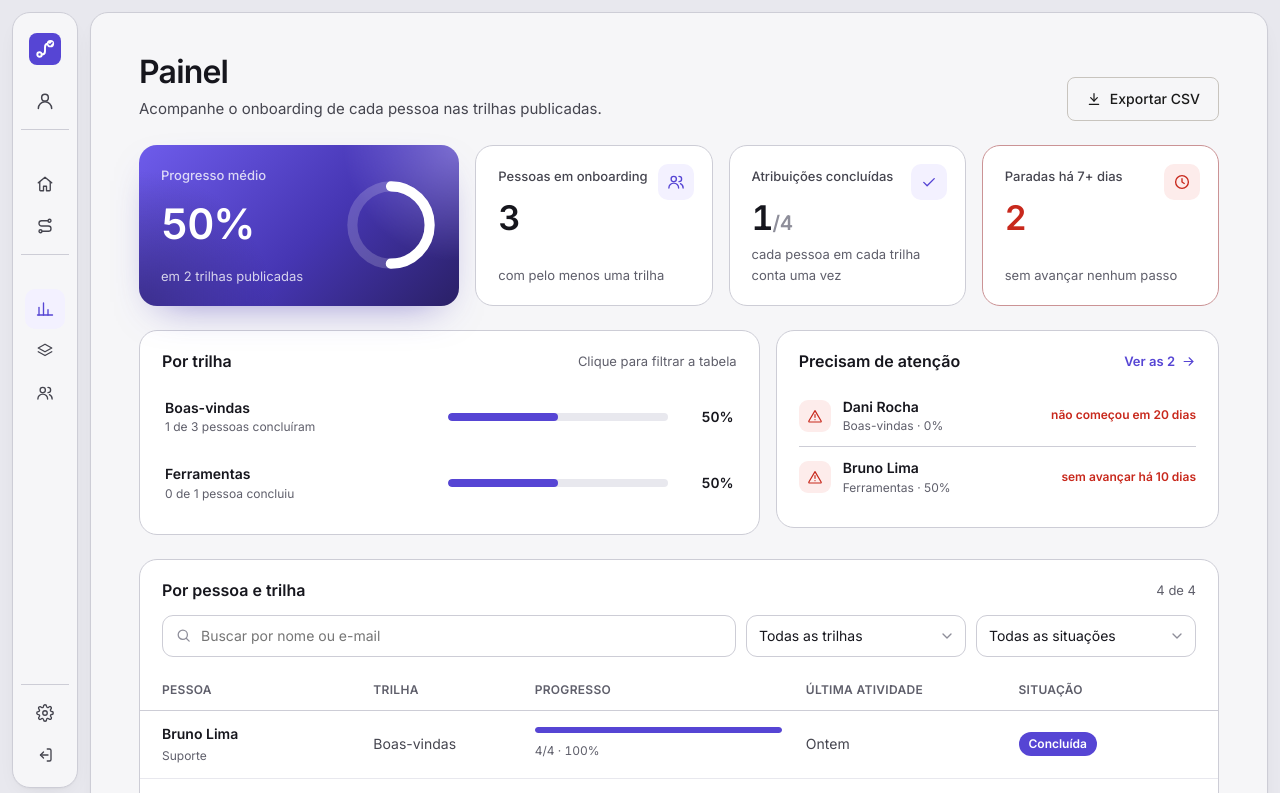
Test: painel do gestor › filtra por trilha, situação e busca
Click the button "Ferramentas 50% 0 de 1 pessoa concluiu".
click(449, 483)  # box [152,452,747,514]
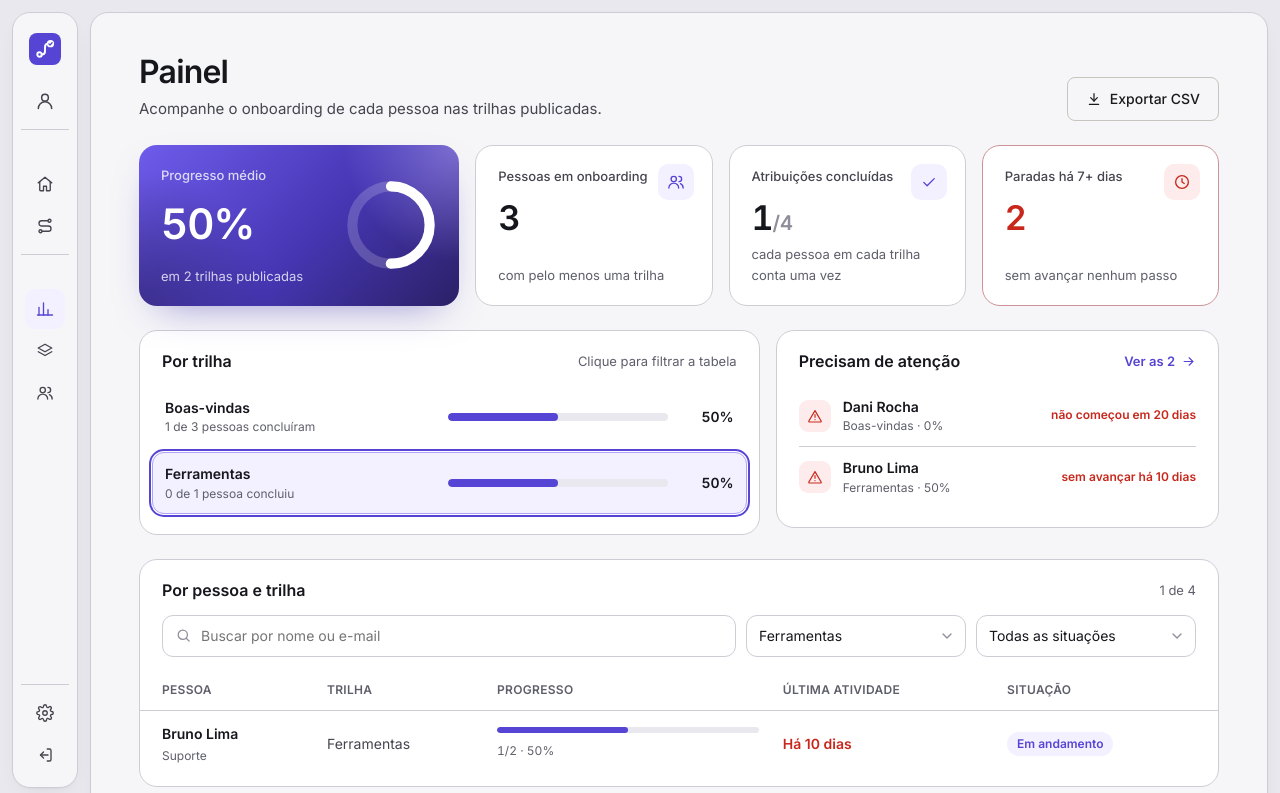
expect the number of rows is 2: met, box [140,671,1218,710]; [140,710,1218,778]
Click the button "Ferramentas 50% 0 de 1 pessoa concluiu".
click(449, 483)  # box [152,452,747,514]
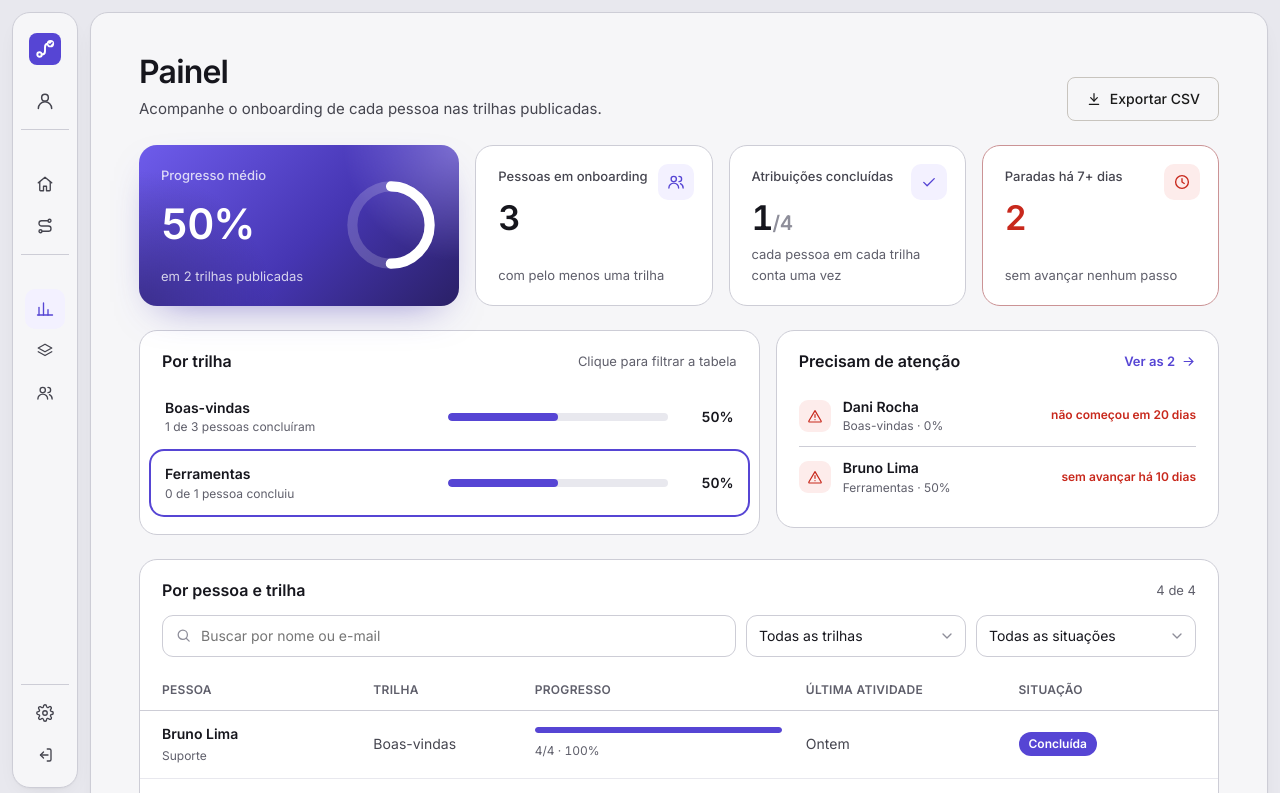
expect the dropdown named "Filtrar por trilha" shows "Todas as trilhas": met, box [746,615,966,657]
Select "Não iniciou" in the dropdown named "Filtrar por situação" at (1086, 636), box [976,615,1196,657]
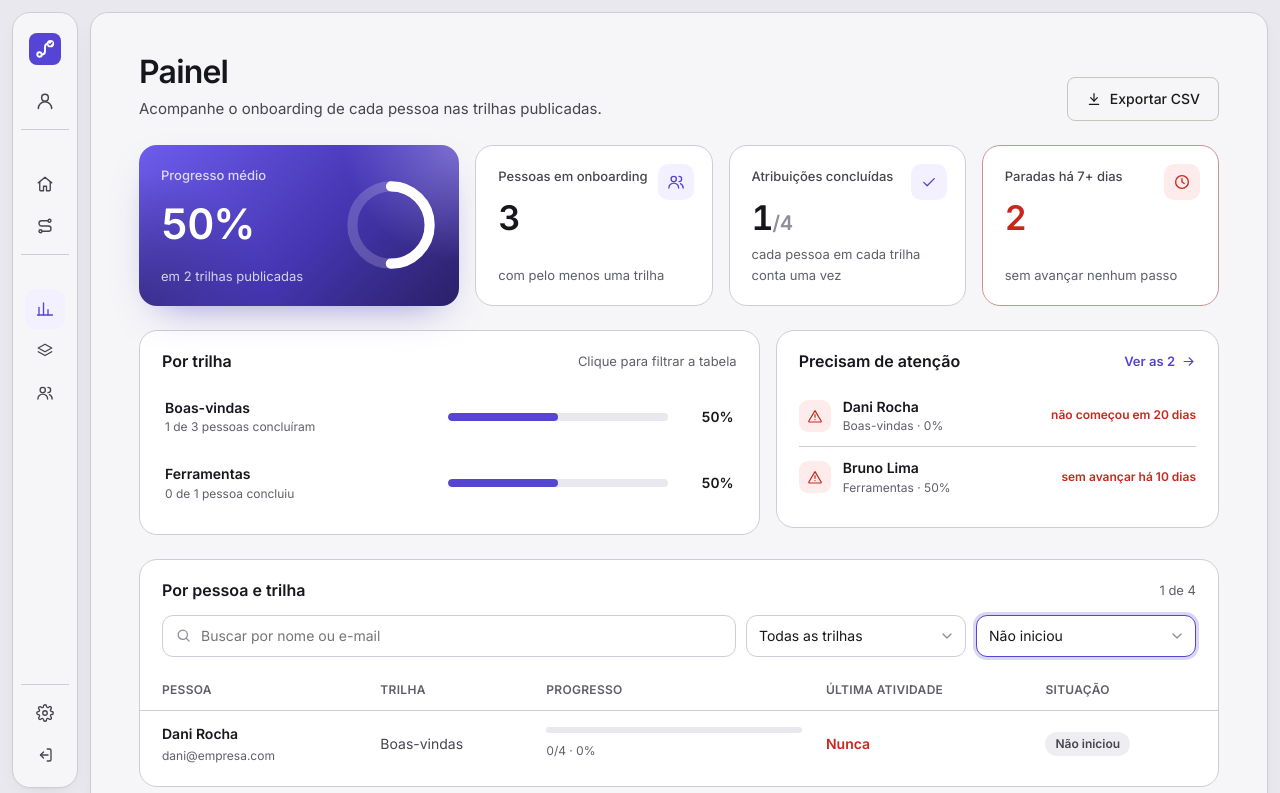
expect the text "Dani Rocha" in the row of "Nunca" is shown: met, box [162,724,238,742]
expect the number of rows is 2: met, box [140,671,1218,710]; [140,710,1218,778]
Select "Todas as situações" in the dropdown named "Filtrar por situação" at (1086, 636), box [976,615,1196,657]
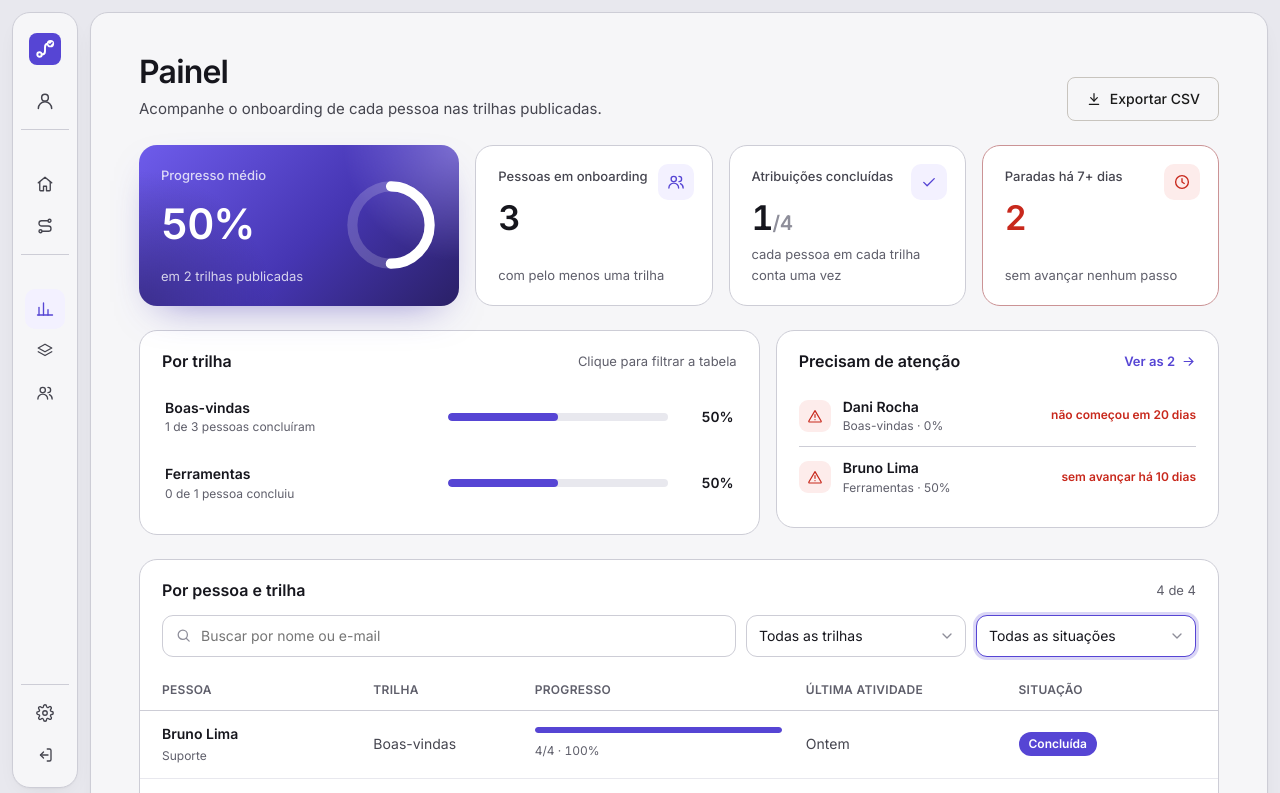
Type "carla" into the search field named "Buscar pessoa".
click(449, 636); type("carla")  # box [162,615,736,657]
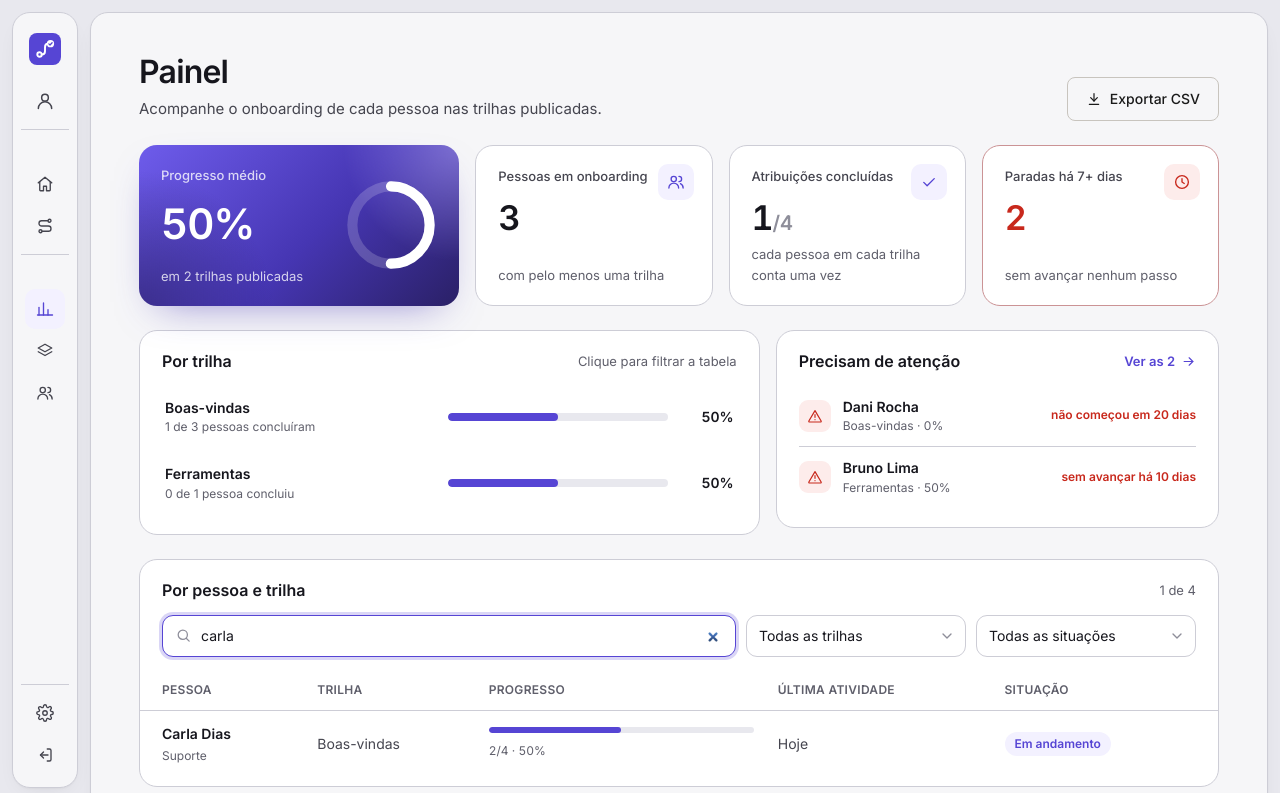
expect the number of rows is 2: met, box [140,671,1218,710]; [140,710,1218,778]
Replace the text in the search field named "Buscar pessoa" with "ninguém" at (449, 636), box [162,615,736,657]
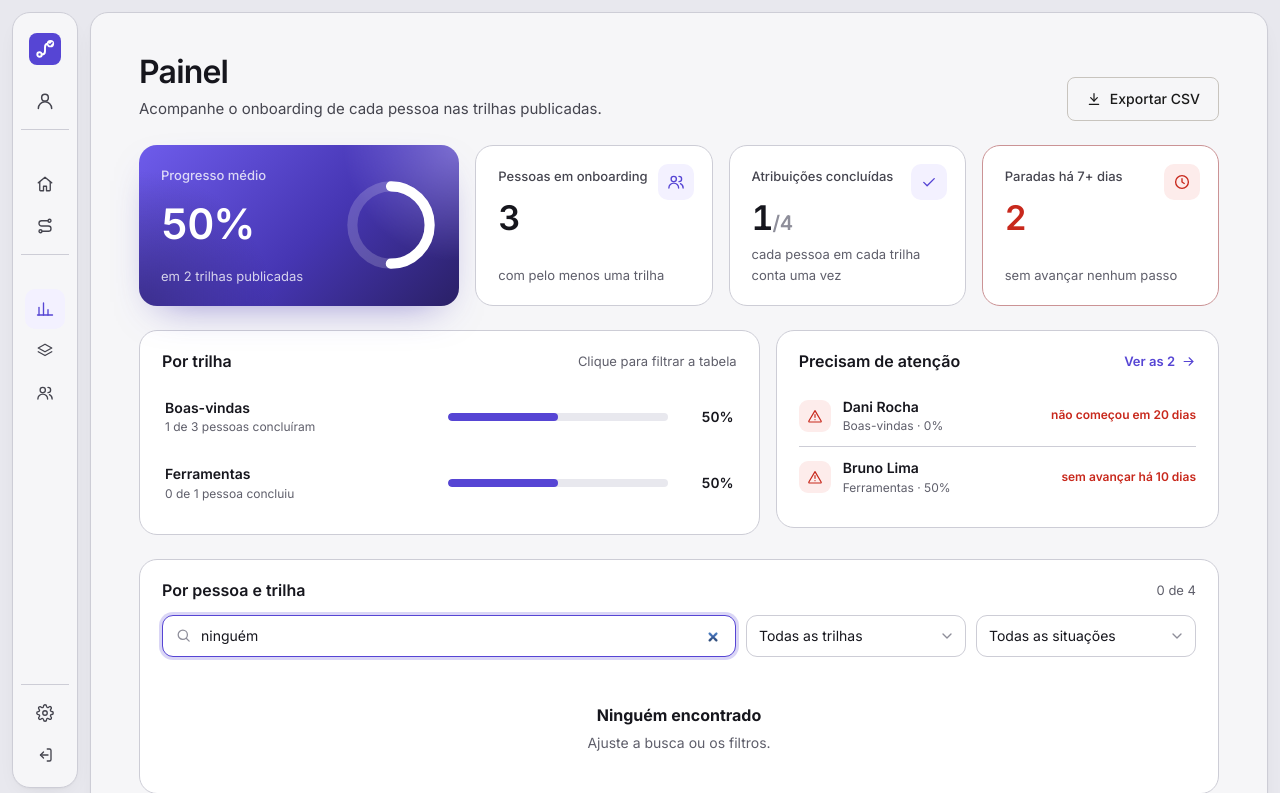
expect the text "Ninguém encontrado" is shown: met, box [597,705,761,725]
